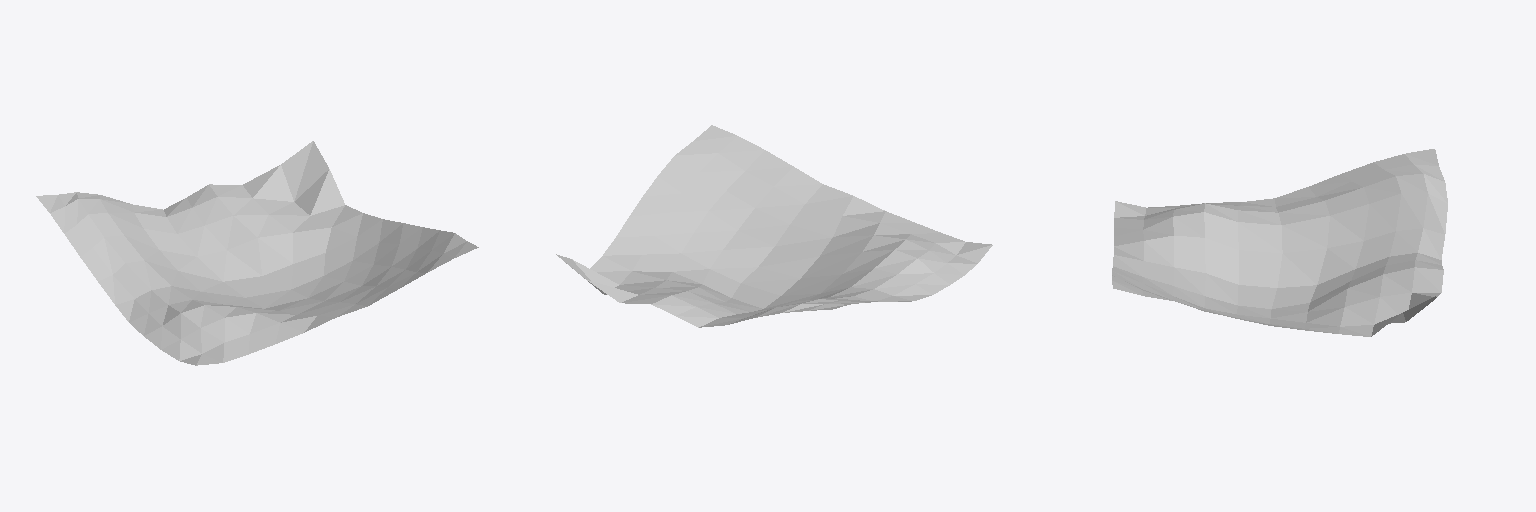
Rendered from plana2.obj.
The picture shows the model from 3 angles: view 1: azimuth 30°, elevation 25°; view 2: azimuth 150°, elevation 25°; view 3: azimuth 270°, elevation 25°; orthographic projection.
Visible parts, largest first — view 1: Plane_Plane.001; view 2: Plane_Plane.001; view 3: Plane_Plane.001.
Boxes of the visible parts, box(x1,y1,x2,y2) form: Plane_Plane.001: box(36, 141, 478, 365); Plane_Plane.001: box(556, 125, 992, 327); Plane_Plane.001: box(1112, 149, 1447, 336).
Size of the model in its own units: 8.28 by 2.04 by 8.19.